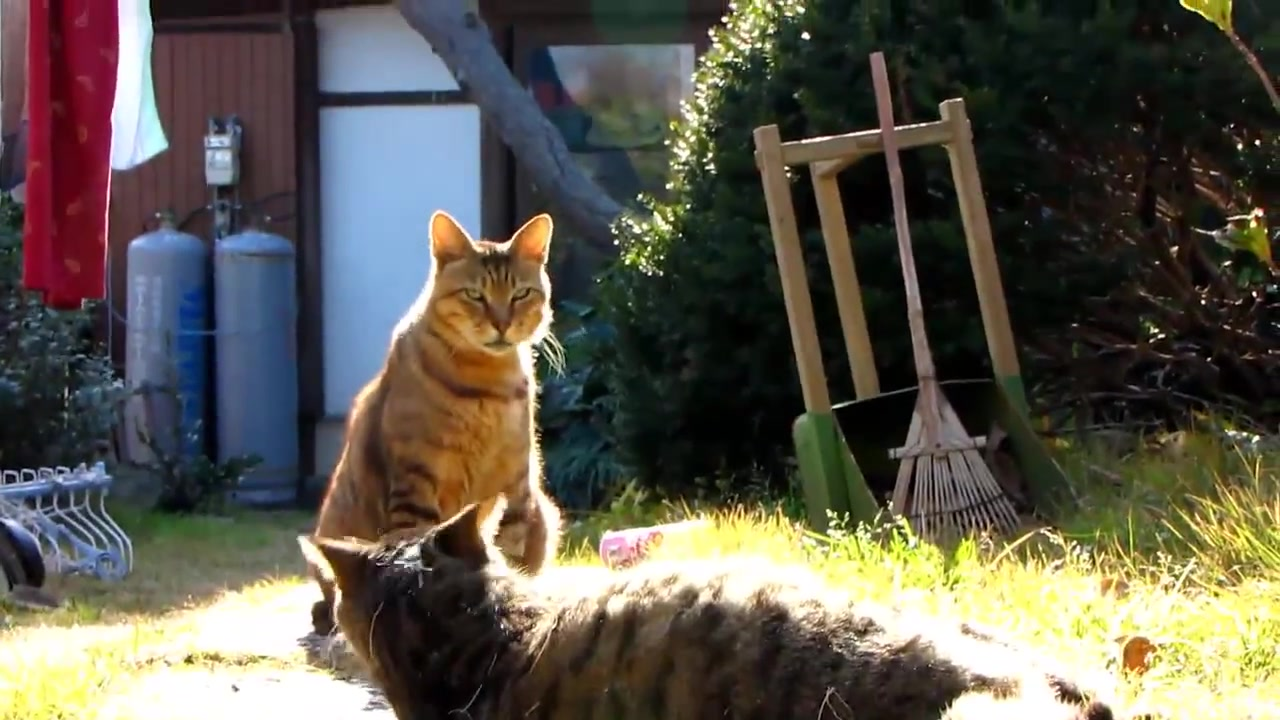cat: (299, 495, 1152, 720), (304, 212, 579, 632)
